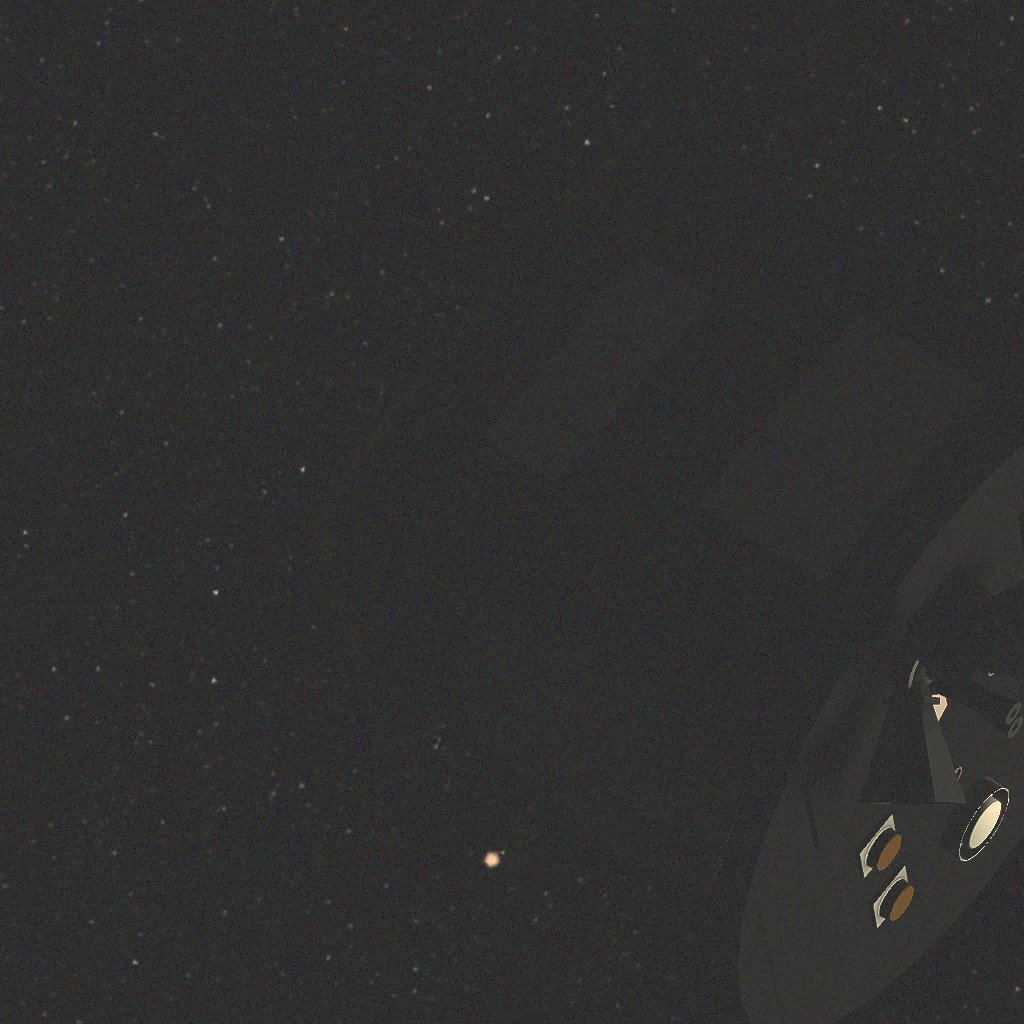proba_3_ocs: (311, 97, 1024, 1024)
